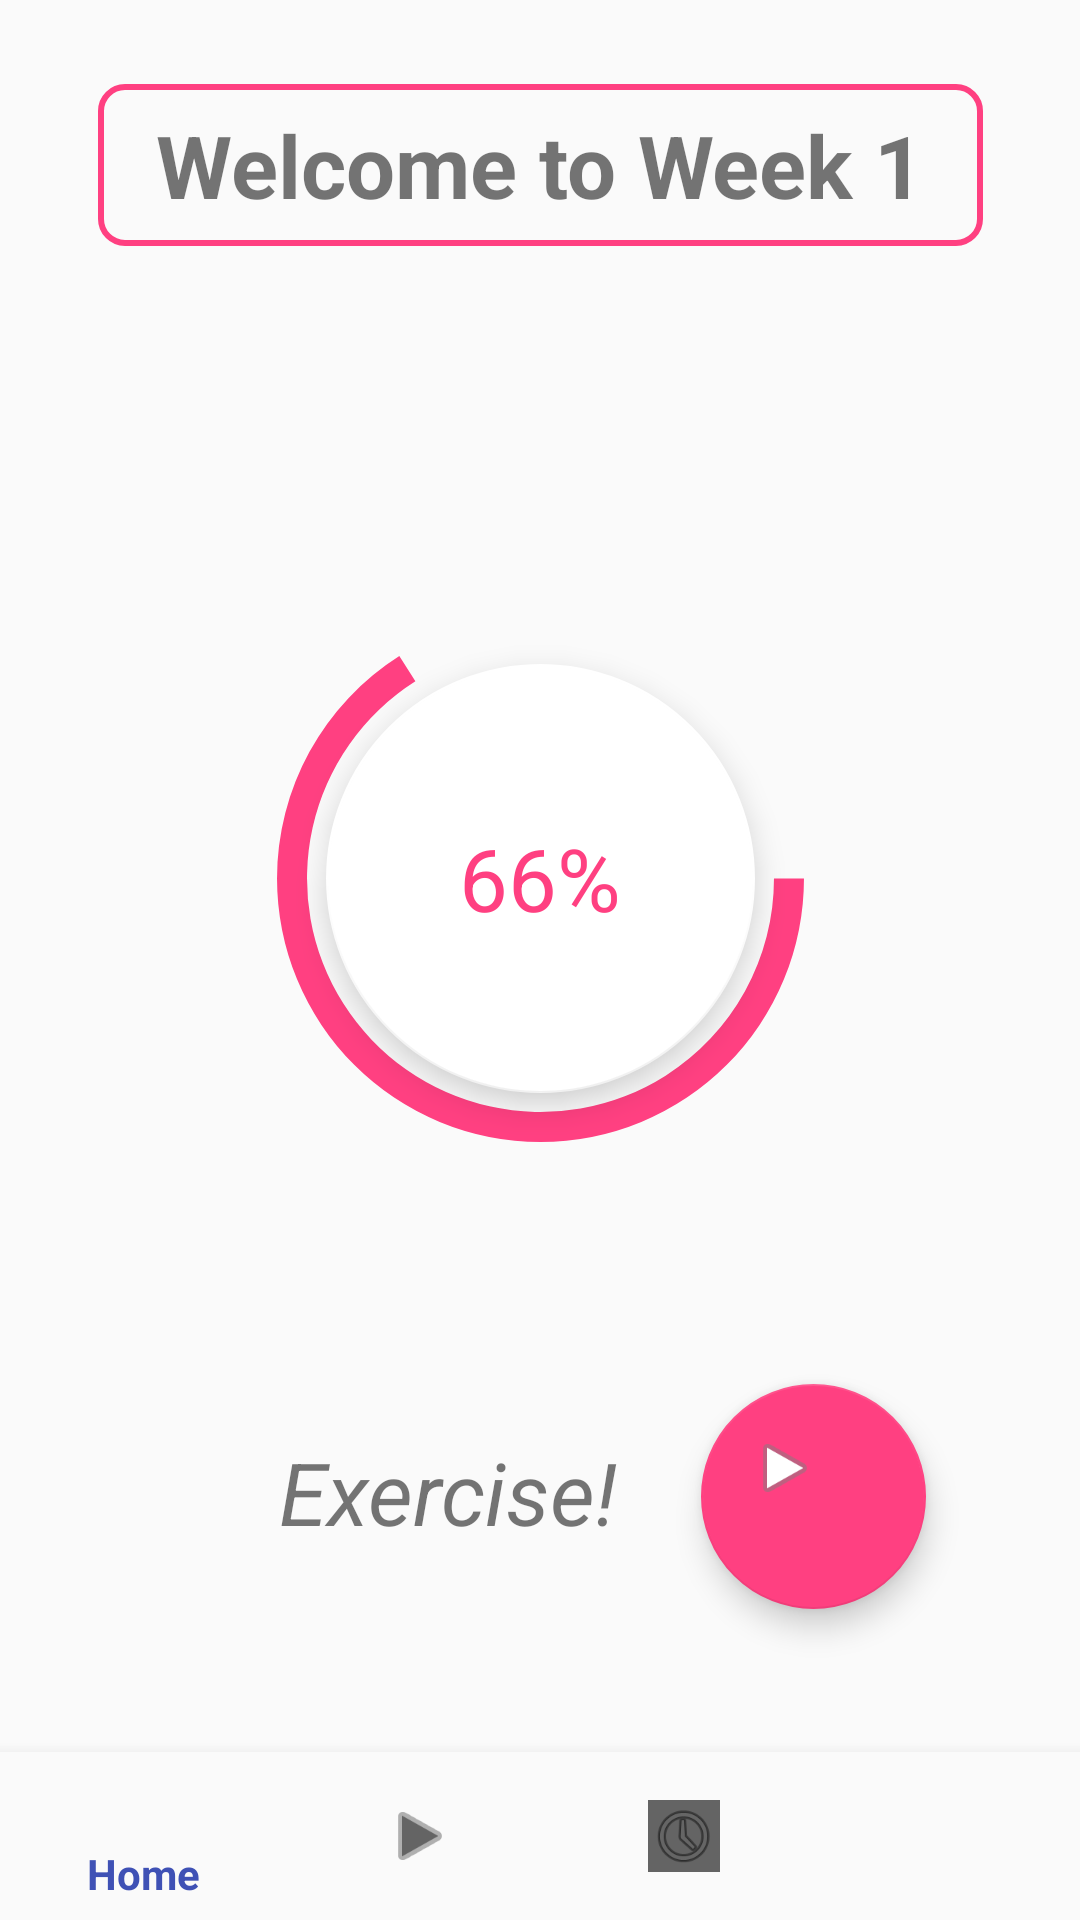

Locate icon controls on the screen. Image size 1080x1920, boxes as (x1, y1, x2, y2).
play: (701, 1384, 926, 1609)
